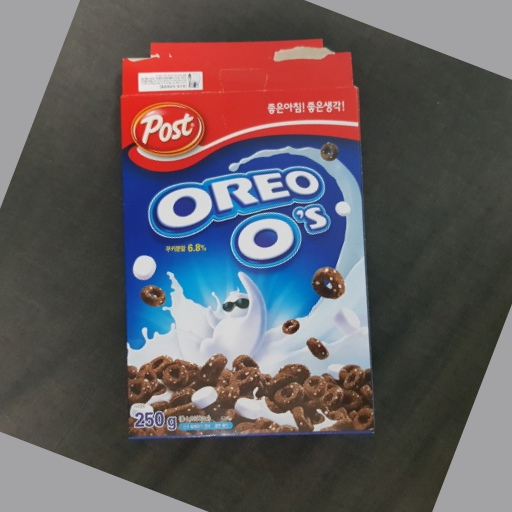Paper_0: (111, 37, 383, 443)
